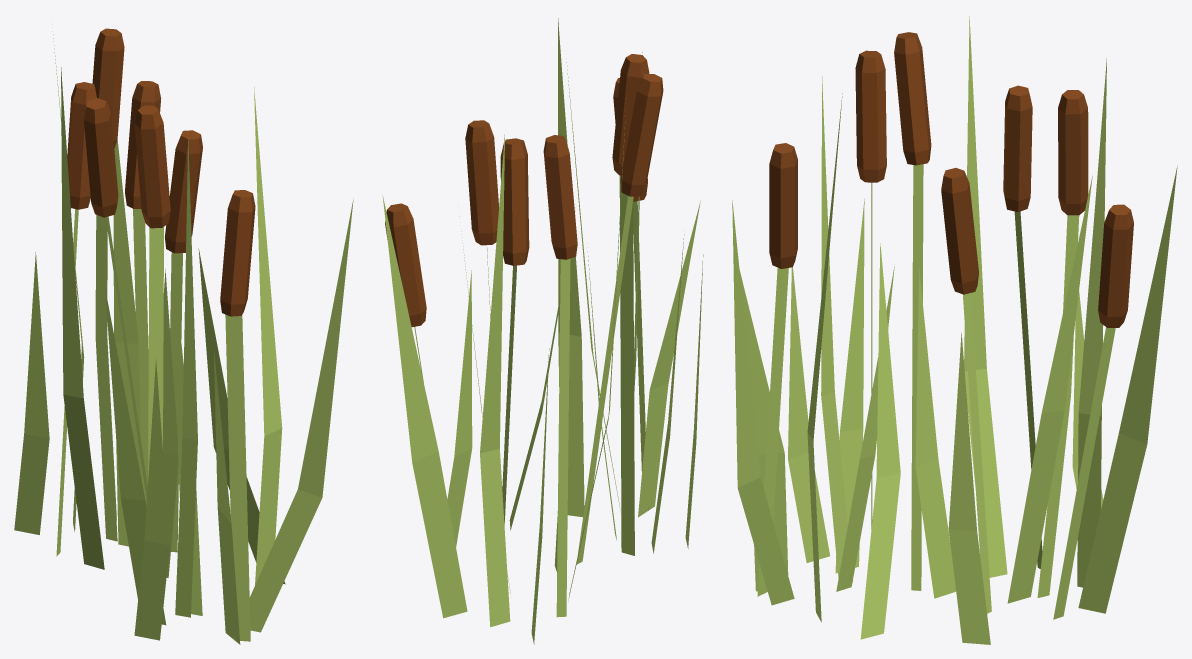
Rendered from Plant5_oneside.fbx.
3 views of the same model, side by side, from view 1: azimuth 30°, elevation 25°; view 2: azimuth 150°, elevation 25°; view 3: azimuth 270°, elevation 25° (orthographic). The views are drawn at different scales.
Visible parts, largest first — view 1: Plants5_oneside; view 2: Plants5_oneside; view 3: Plants5_oneside.
Part boxes in pixels (box(x1,y1,x2,y2)): Plants5_oneside: box(14, 28, 353, 644); Plants5_oneside: box(382, 18, 703, 644); Plants5_oneside: box(732, 16, 1177, 644).
Size of the model in its own units: 0.6522 by 1.72 by 1.29.
